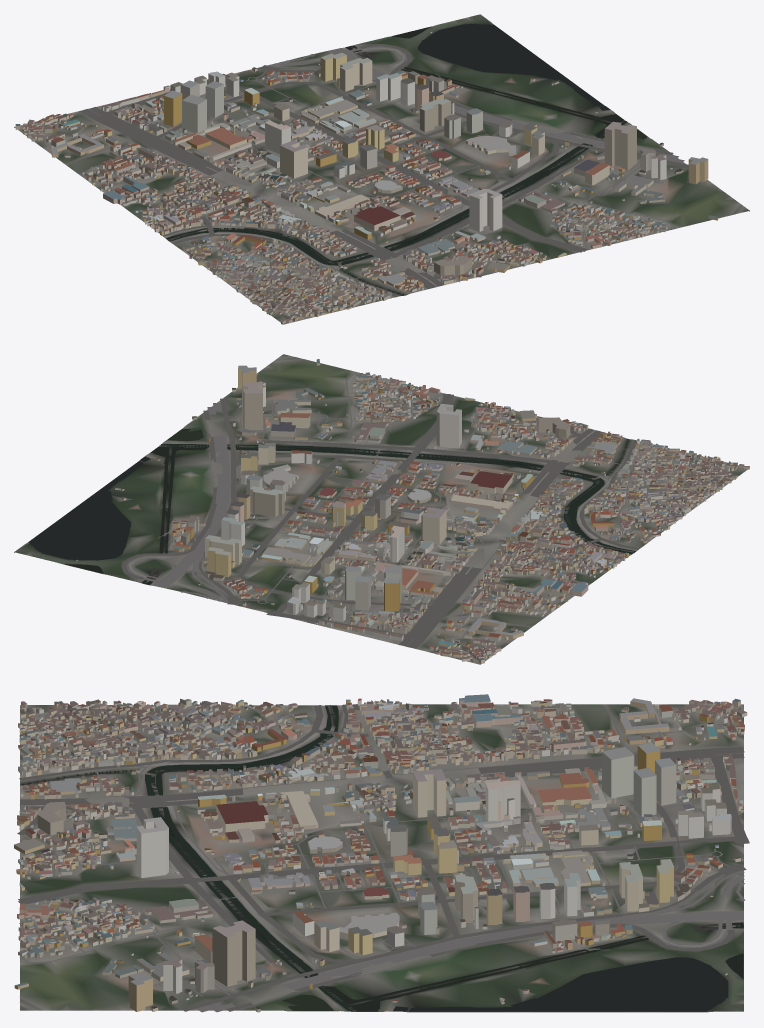
3 views of the same model, one above another, from view 1: azimuth 30°, elevation 25°; view 2: azimuth 150°, elevation 25°; view 3: azimuth 270°, elevation 25° (orthographic). The views are drawn at different scales.
Visible parts, largest first — view 1: buildings, ground, roads, water; view 2: buildings, ground, roads, water; view 3: buildings, ground, roads, water.
Boxes of the visible parts, <box> form: buildings: <box>15,31,718,324</box>; ground: <box>14,14,749,324</box>; roads: <box>43,44,744,297</box>; water: <box>166,23,647,295</box>; buildings: <box>76,359,749,663</box>; ground: <box>14,354,747,664</box>; roads: <box>121,357,715,652</box>; water: <box>28,429,635,584</box>; buildings: <box>14,694,747,1012</box>; ground: <box>20,704,743,1012</box>; roads: <box>17,704,749,1012</box>; water: <box>21,705,743,1011</box>.
Size of the model in its own units: 1428 by 112 by 1425.
